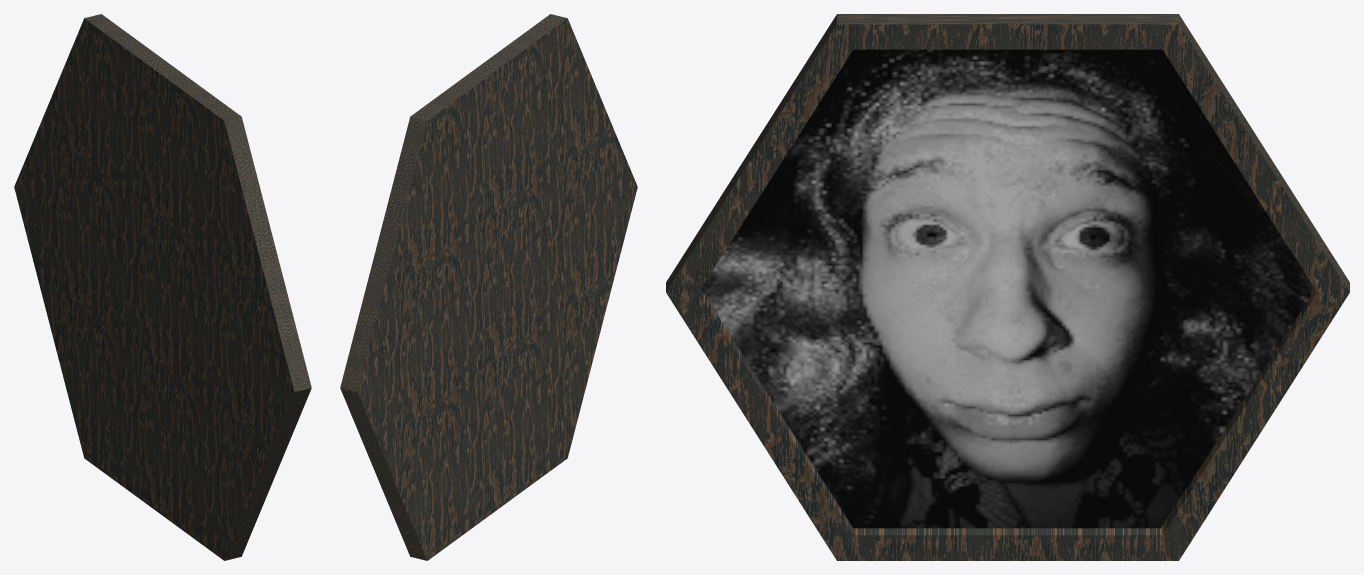
Rendered from FiskerSpooky.fbx.
The picture shows the model from 3 angles, left to right: view 1: azimuth 30°, elevation 25°; view 2: azimuth 150°, elevation 25°; view 3: azimuth 270°, elevation 25°; orthographic projection. The views are drawn at different scales.
Parts seen in each view (by area): view 1: Cylinder; view 2: Cylinder; view 3: Plane, Cylinder.
Boxes of the visible parts, x1,y1,x2,y2 form: Cylinder: (14,14,311,560); Cylinder: (340,14,637,560); Plane: (701,49,1314,528); Cylinder: (666,14,1349,560).
Size of the model in its own units: 13.28 by 323 by 373.
